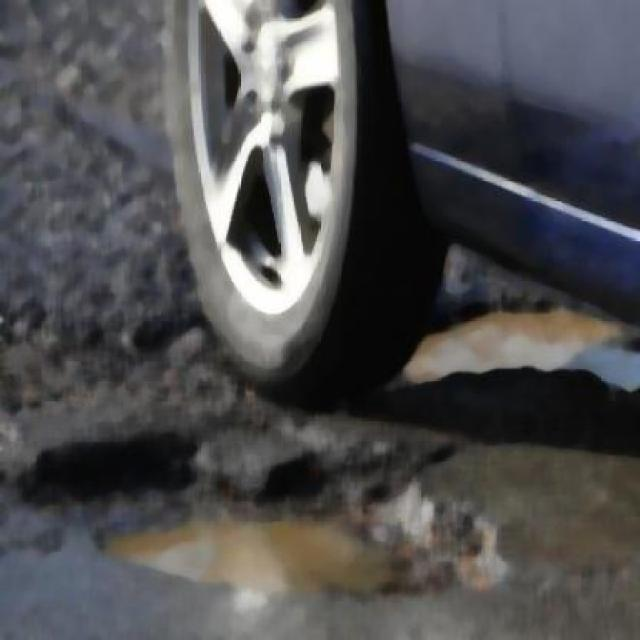Pothole: (80, 416, 392, 624), (413, 288, 639, 426)
